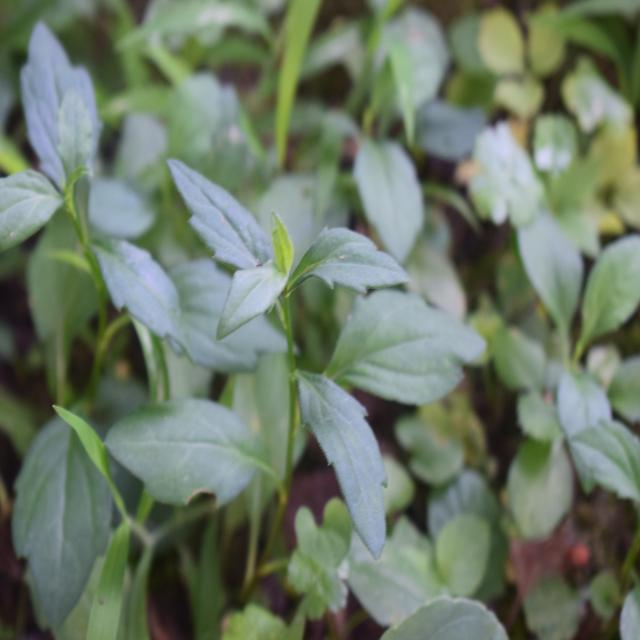Indian aster: (160, 155, 433, 518), (1, 44, 164, 583)
